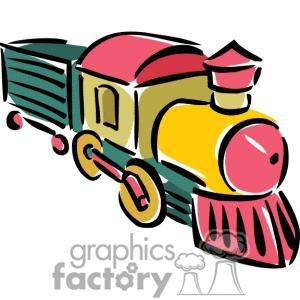train: (1, 26, 300, 272)
